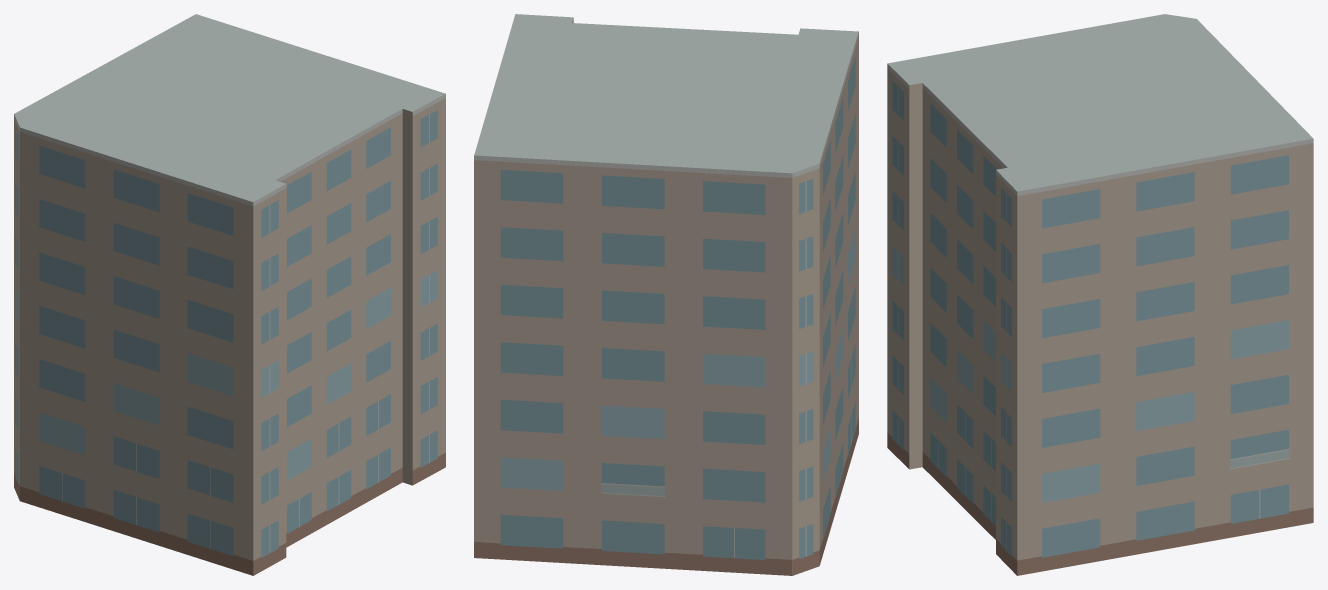
File: survey-upis-32748191.glb
3 renders of one model, left to right at view 1: azimuth 30°, elevation 25°; view 2: azimuth 150°, elevation 25°; view 3: azimuth 270°, elevation 25°, orthographic. The views are drawn at different scales.
Parts seen in each view (by area): view 1: survey-upis-32748191.tmp; view 2: survey-upis-32748191.tmp; view 3: survey-upis-32748191.tmp.
Part boxes in pixels (x1,y1,x2,y2): survey-upis-32748191.tmp: (14,14,445,575); survey-upis-32748191.tmp: (474,14,858,575); survey-upis-32748191.tmp: (887,14,1313,575).
Size of the model in its own units: 20.74 by 20.9 by 21.02.
